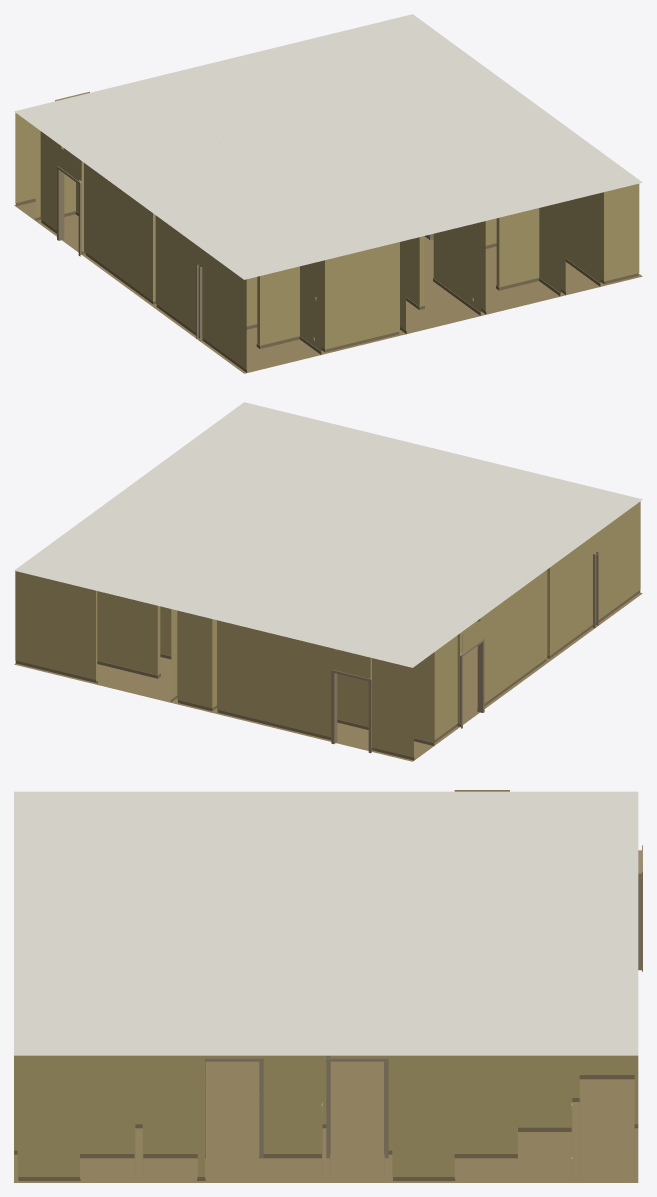
File: chunk_4_2.glb
3 views of the same model, one above another, from view 1: azimuth 30°, elevation 25°; view 2: azimuth 150°, elevation 25°; view 3: azimuth 270°, elevation 25° (orthographic). The views are drawn at different scales.
Parts seen in each view (by area): view 1: chunk_4_2; view 2: chunk_4_2; view 3: chunk_4_2.
Part boxes in pixels (left/top/right/bottom): chunk_4_2: left=14, top=14, right=642, bottom=373; chunk_4_2: left=14, top=402, right=642, bottom=761; chunk_4_2: left=14, top=790, right=642, bottom=1182.
Size of the model in its own units: 12.1 by 2.7 by 12.09.
